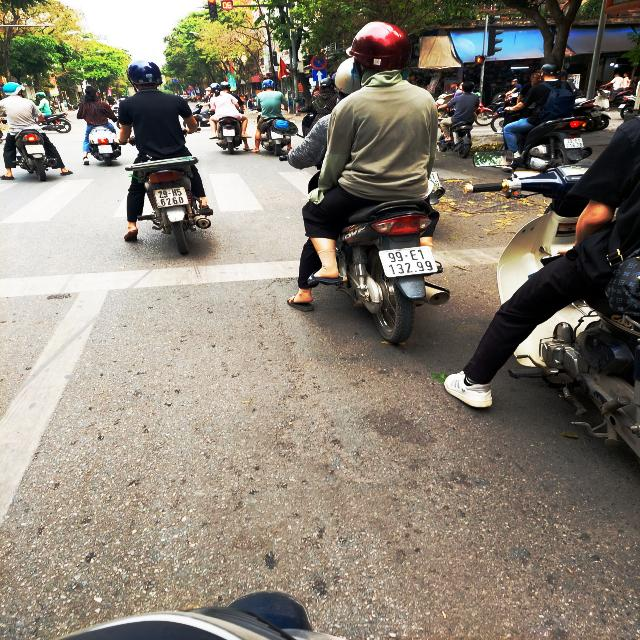license_plate: (378, 246, 440, 278)
